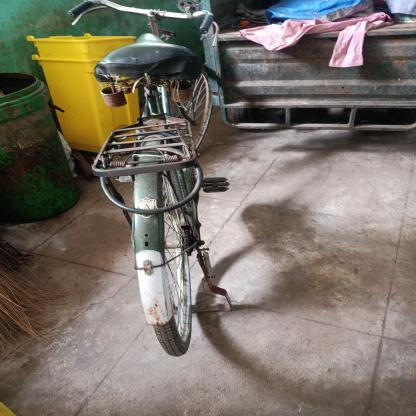bicycle: (31, 0, 299, 369)
